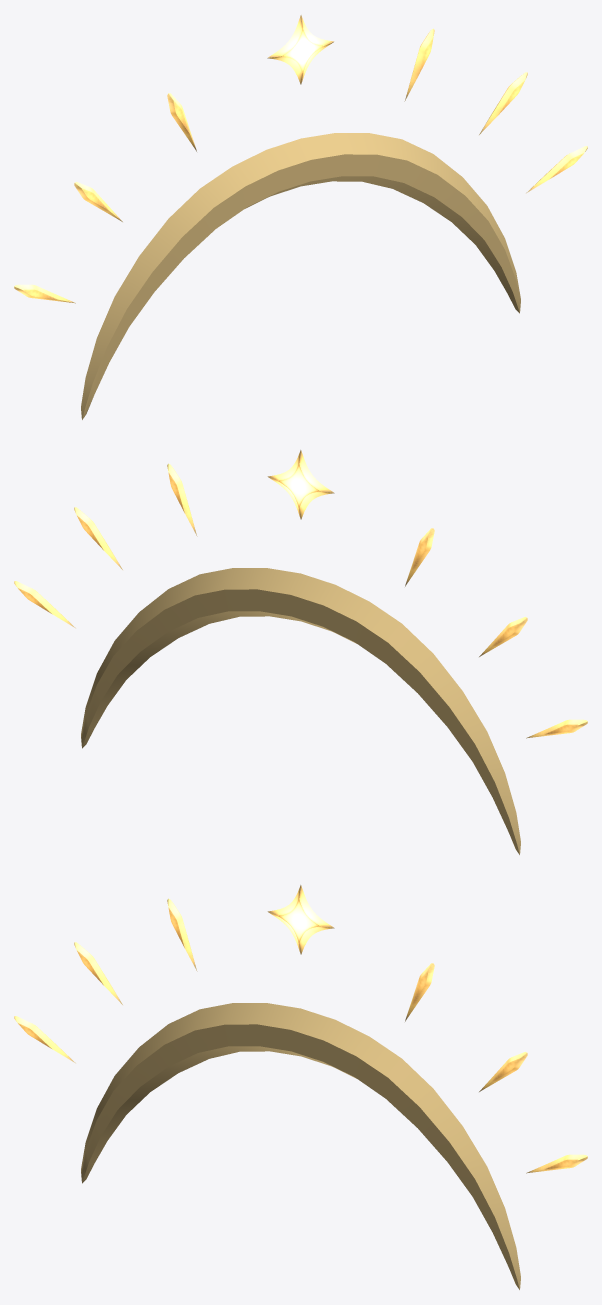
Rendered from Sincerity Arc.fbx.
3 views of the same model, one above another, from view 1: azimuth 30°, elevation 25°; view 2: azimuth 150°, elevation 25°; view 3: azimuth 330°, elevation 25° (orthographic).
Visible parts, largest first — view 1: Sincerity Arc; view 2: Sincerity Arc; view 3: Sincerity Arc.
Part boxes in pixels (x1=…): Sincerity Arc: x1=14, y1=15, x2=587, y2=419; Sincerity Arc: x1=14, y1=450, x2=587, y2=854; Sincerity Arc: x1=14, y1=885, x2=587, y2=1289.
Bounding box in the file's own units: 0.2216 × 0.1301 × 0.0135.
